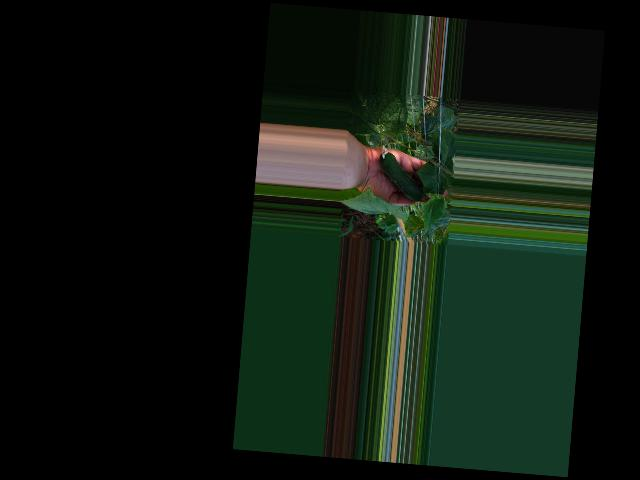cucumber: (376, 144, 427, 201)
